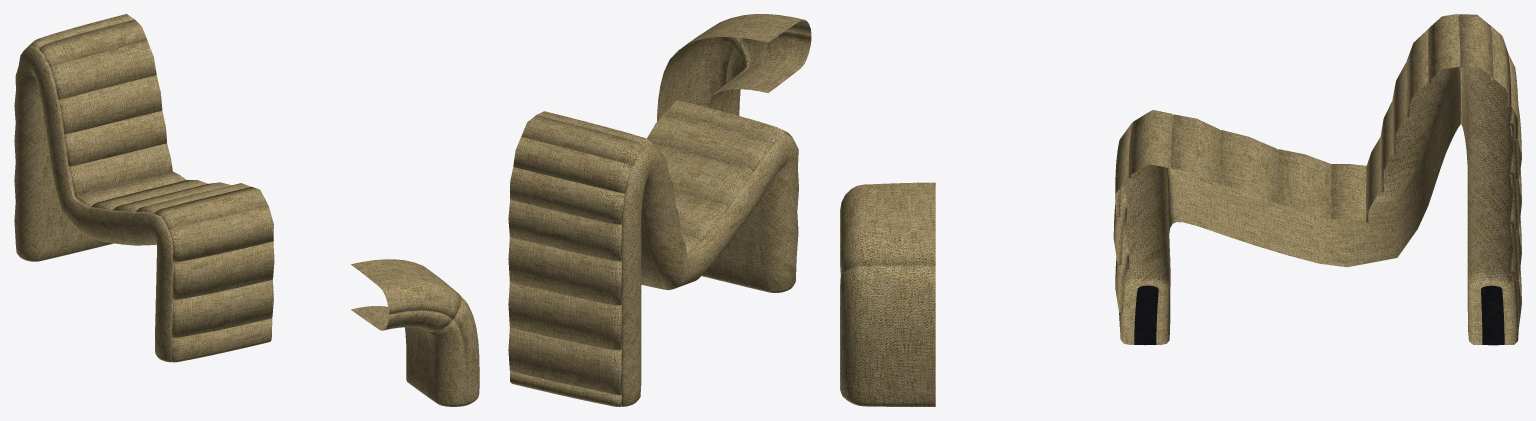
The model's file is modern-arm-chair.glb.
3 views of the same model, side by side, from view 1: azimuth 30°, elevation 25°; view 2: azimuth 150°, elevation 25°; view 3: azimuth 270°, elevation 25° (orthographic). The views are drawn at different scales.
Visible parts, largest first — view 1: fauteuil, Circle.002; view 2: fauteuil, Circle.002; view 3: fauteuil, Circle.002.
Part boxes in pixels (box(x1,y1,x2,y2)): fauteuil: box(14, 14, 274, 362); Circle.002: box(351, 259, 479, 406); fauteuil: box(508, 100, 798, 406); Circle.002: box(657, 14, 811, 121); fauteuil: box(1113, 14, 1521, 345); Circle.002: box(840, 182, 935, 406).
Bounding box in the file's own units: 0.6599 × 0.6874 × 1.52.
2 materials, 2 textured.
